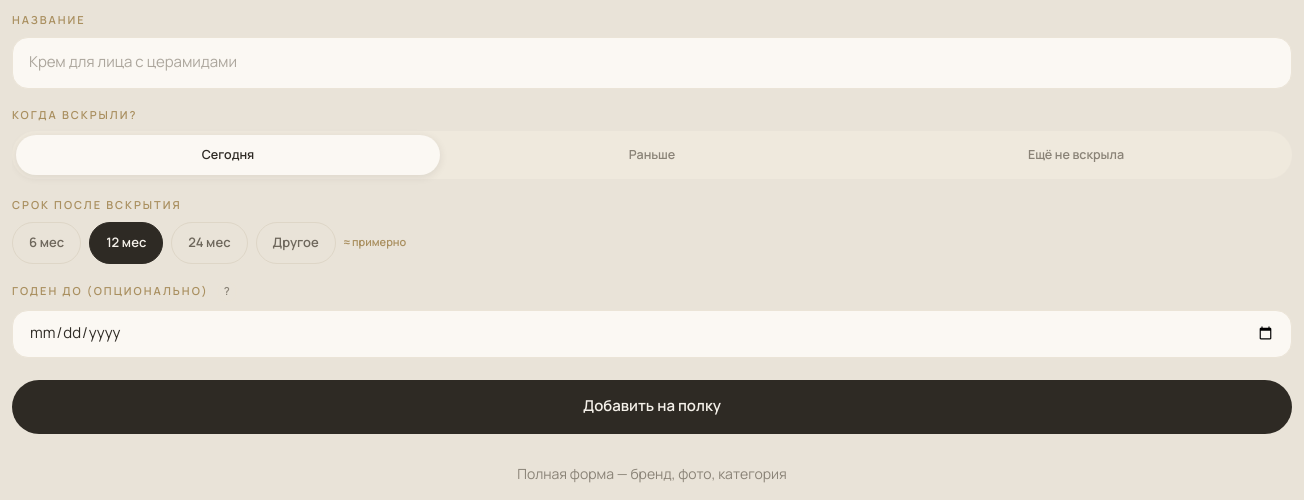
Test: AddManualTab › запечатанное прячет PAO
This screenshot has width=1304, height=500.
Type "Крем про запас" into the field named "Название средства" at (652, 62), box [12,36,1292,88]
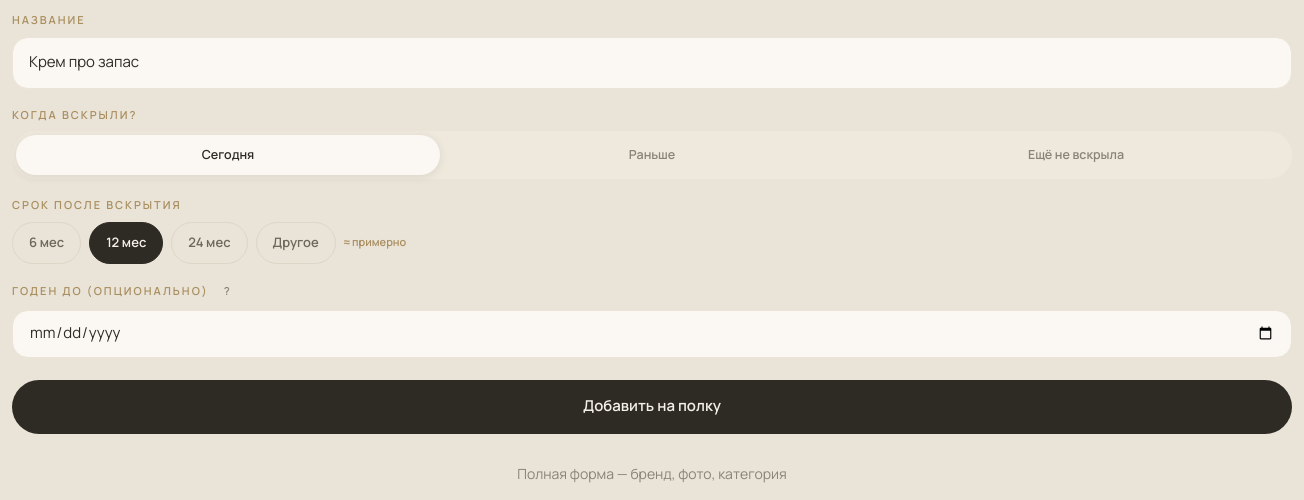
Click the tab "Ещё не вскрыла" at (1076, 155), box [864,135,1288,175]
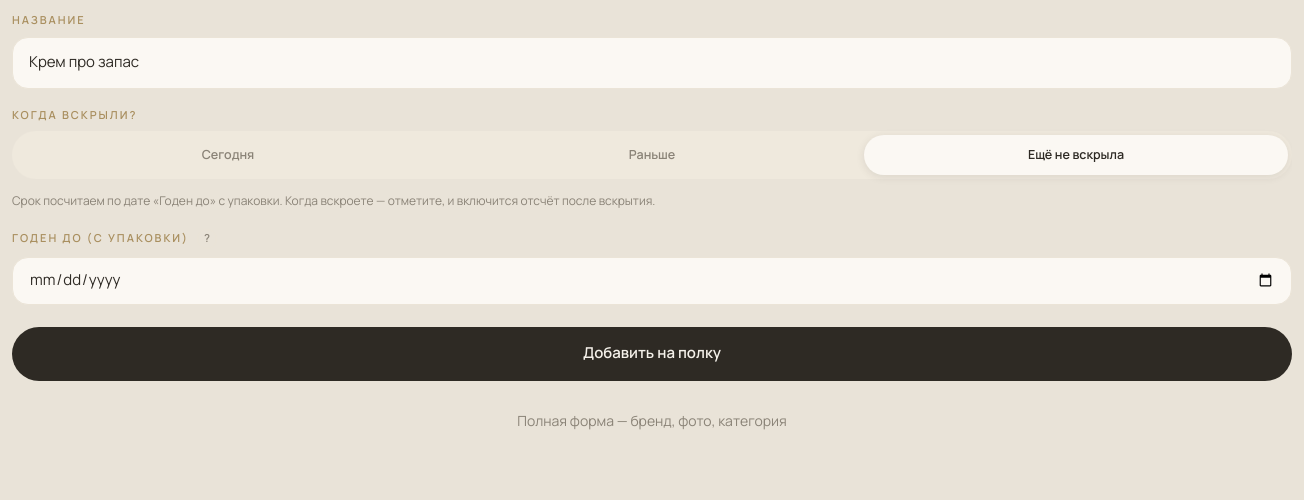
Result: the text "Срок после вскрытия" is gone
